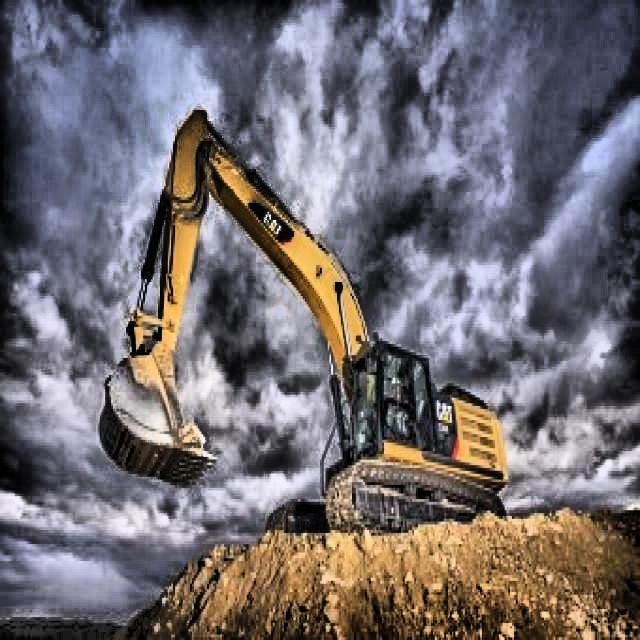bull_dozer/loader/grader: (95, 100, 509, 544)
person: (386, 370, 408, 438)
